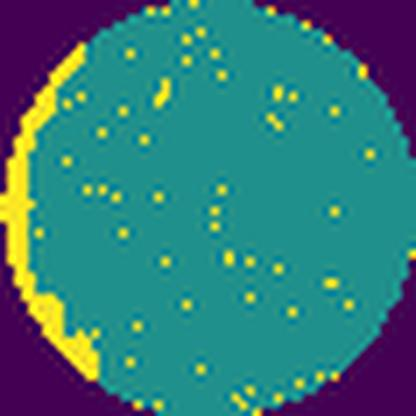Edge-Loc: (0, 41, 103, 383)
